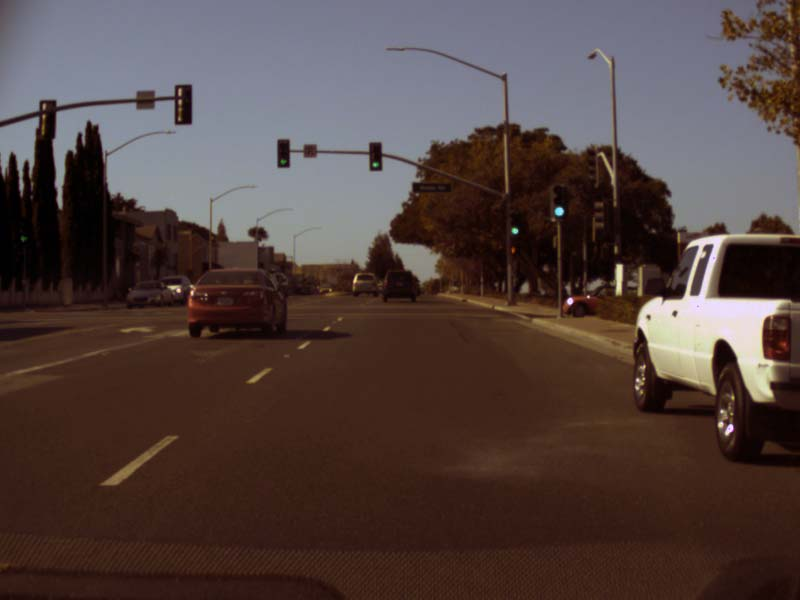Green: (552, 185, 565, 218), (368, 142, 382, 171), (508, 211, 521, 241), (277, 139, 289, 167)
Yellow: (508, 243, 520, 255)
